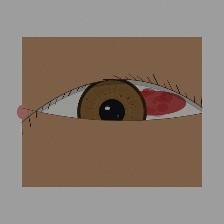hemorrhage_spot: (104, 65, 199, 141)
